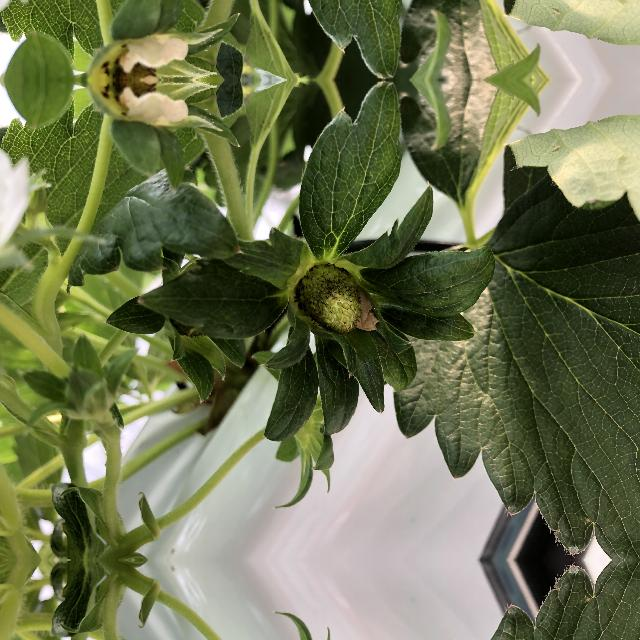Health_25: (294, 260, 368, 338)
